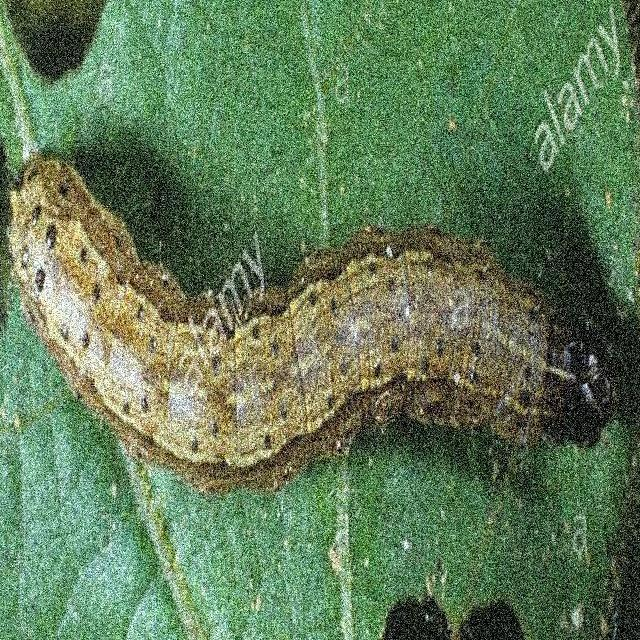Plaga: (1, 155, 623, 506)
